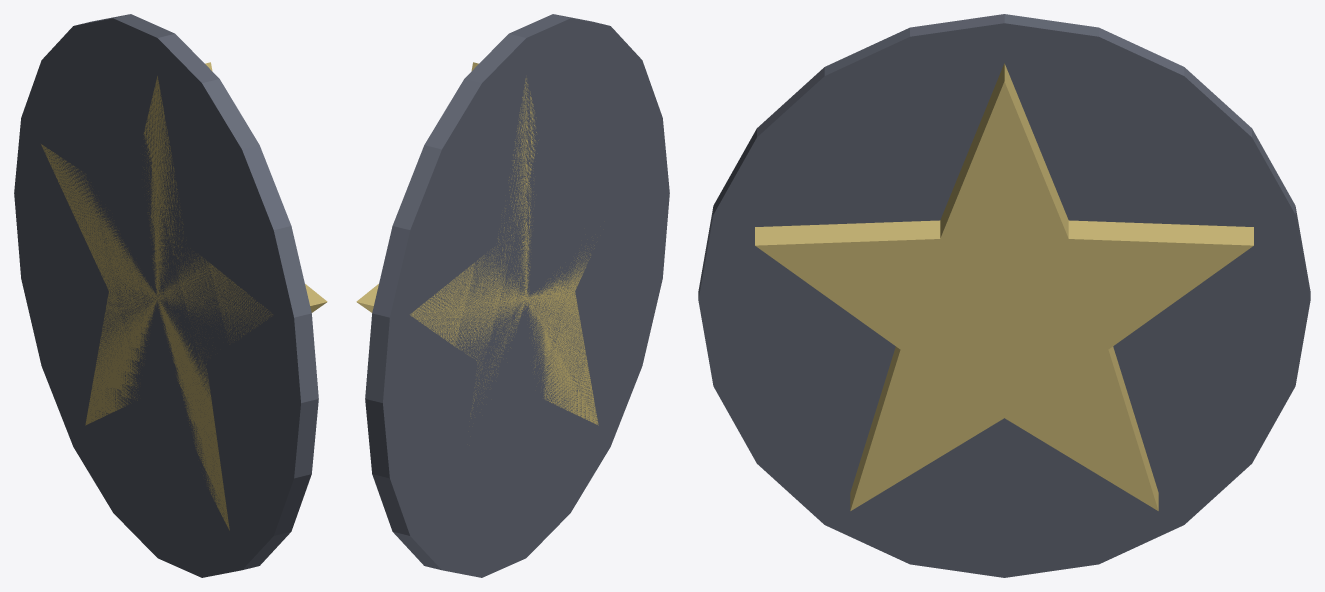
File: SM_BM_HV_Emblem_Star.glb
3 renders of one model, left to right at view 1: azimuth 30°, elevation 25°; view 2: azimuth 150°, elevation 25°; view 3: azimuth 270°, elevation 25°, orthographic. The views are drawn at different scales.
Visible parts, largest first — view 1: SM_BM_HV_Emblem_Star; view 2: SM_BM_HV_Emblem_Star; view 3: SM_BM_HV_Emblem_Star.
Boxes of the visible parts, bbox=[...] form: SM_BM_HV_Emblem_Star: bbox=[14, 14, 327, 577]; SM_BM_HV_Emblem_Star: bbox=[356, 14, 669, 577]; SM_BM_HV_Emblem_Star: bbox=[698, 14, 1310, 577].
Size of the model in its own units: 0.09 by 0.84 by 0.84.
